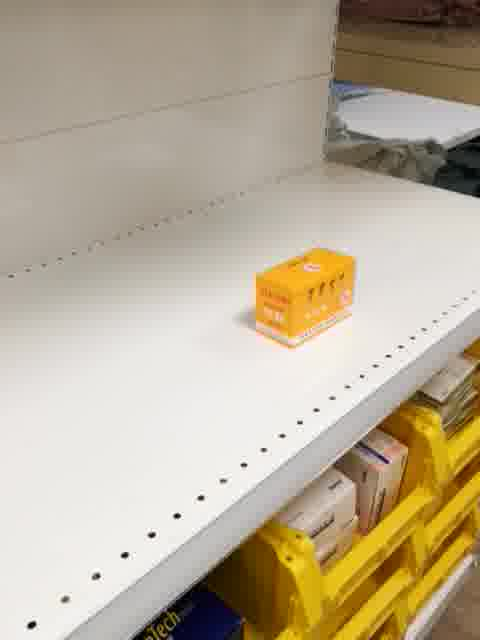jasminetea: (251, 244, 360, 349)
